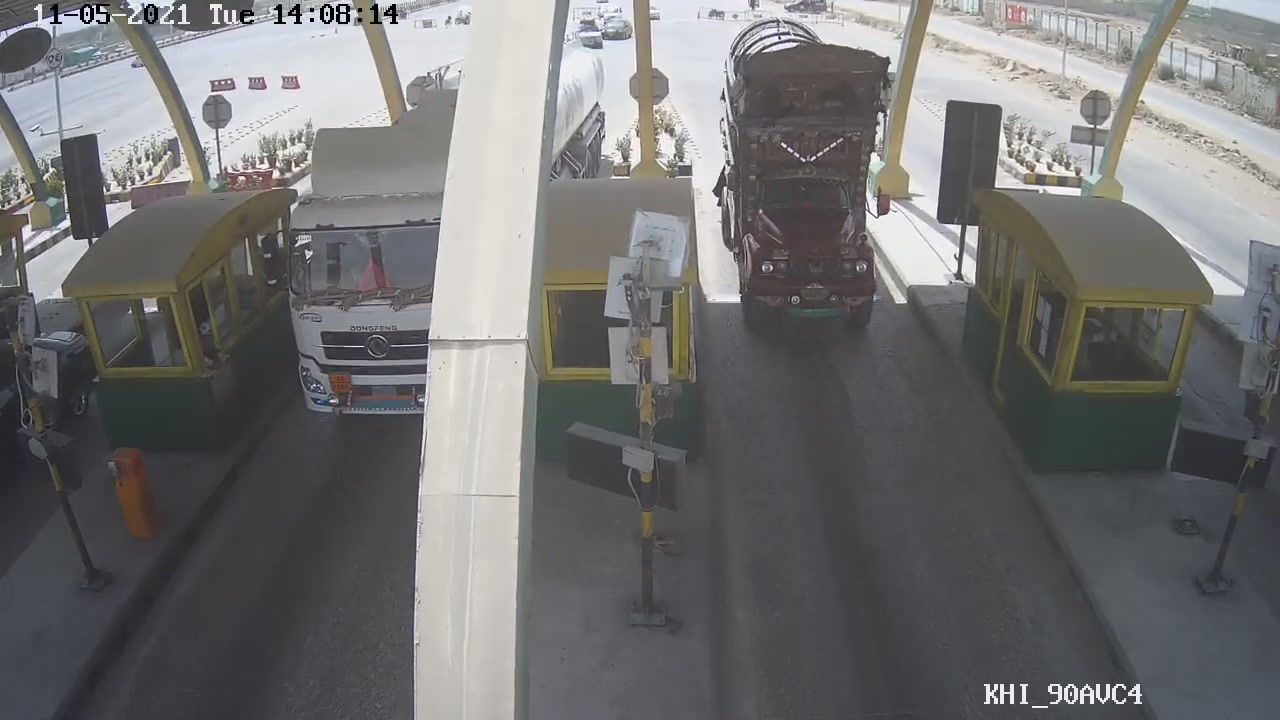F5: (708, 25, 903, 365)
